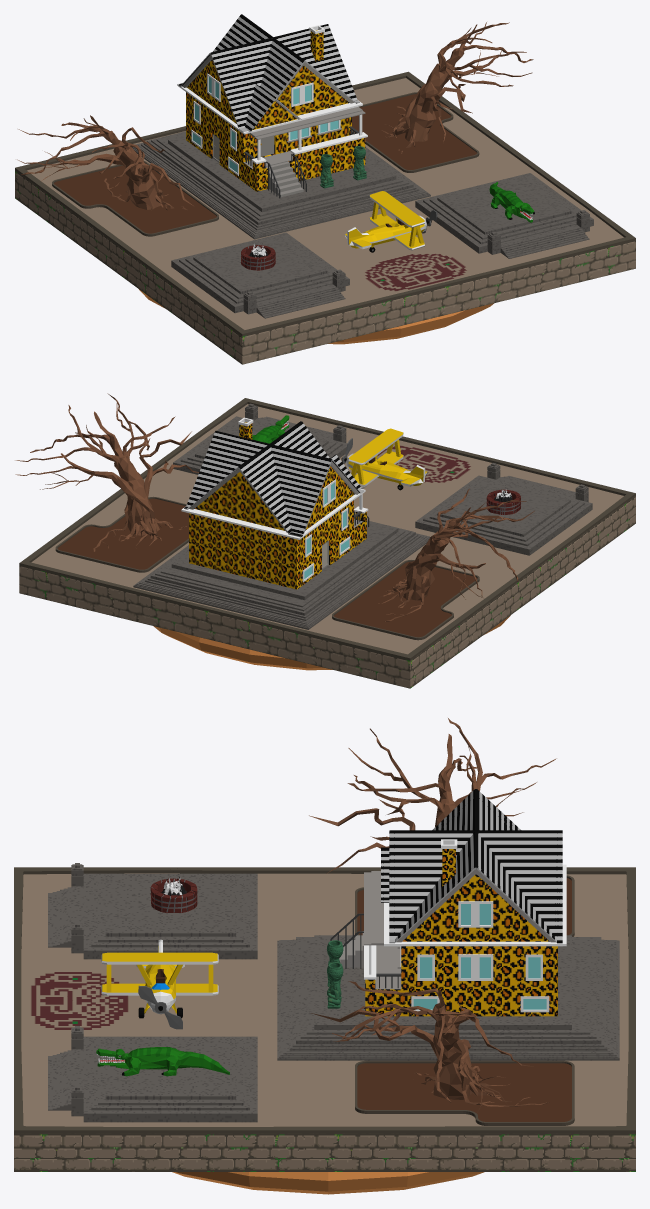
3 renders of one model, top to bottom at view 1: azimuth 30°, elevation 25°; view 2: azimuth 150°, elevation 25°; view 3: azimuth 270°, elevation 25°, orthographic. The views are drawn at different scales.
Parts seen in each view (by area): view 1: Cube.011, Cube.637, VEHICLES_AIRPLANE, UNDERGROUND_PIZZA, ANIMAL_COCODRILO, OBJRANDOM_CAMPFIRE; view 2: Cube.011, Cube.637, VEHICLES_AIRPLANE, UNDERGROUND_PIZZA, OBJRANDOM_CAMPFIRE, ANIMAL_COCODRILO; view 3: Cube.011, Cube.637, VEHICLES_AIRPLANE, UNDERGROUND_PIZZA, ANIMAL_COCODRILO, OBJRANDOM_CAMPFIRE.
Boxes of the visible parts, x1,y1,x2,y2 form: Cube.011: (15, 22, 635, 364); Cube.637: (177, 14, 367, 198); VEHICLES_AIRPLANE: (345, 191, 437, 252); UNDERGROUND_PIZZA: (139, 289, 493, 344); ANIMAL_COCODRILO: (489, 182, 534, 222); OBJRANDOM_CAMPFIRE: (240, 243, 275, 270); Cube.011: (15, 393, 635, 688); Cube.637: (181, 417, 369, 589); VEHICLES_AIRPLANE: (341, 428, 427, 490); UNDERGROUND_PIZZA: (153, 615, 510, 670); OBJRANDOM_CAMPFIRE: (486, 489, 520, 514); ANIMAL_COCODRILO: (252, 415, 289, 443); Cube.011: (14, 718, 635, 1171); Cube.637: (330, 789, 566, 1016); VEHICLES_AIRPLANE: (101, 939, 218, 1029); UNDERGROUND_PIZZA: (172, 1172, 484, 1194); ANIMAL_COCODRILO: (96, 1047, 229, 1076); OBJRANDOM_CAMPFIRE: (150, 876, 197, 912).
Size of the model in its own units: 5099 by 1872 by 4000.
42 materials, 6 textured.
